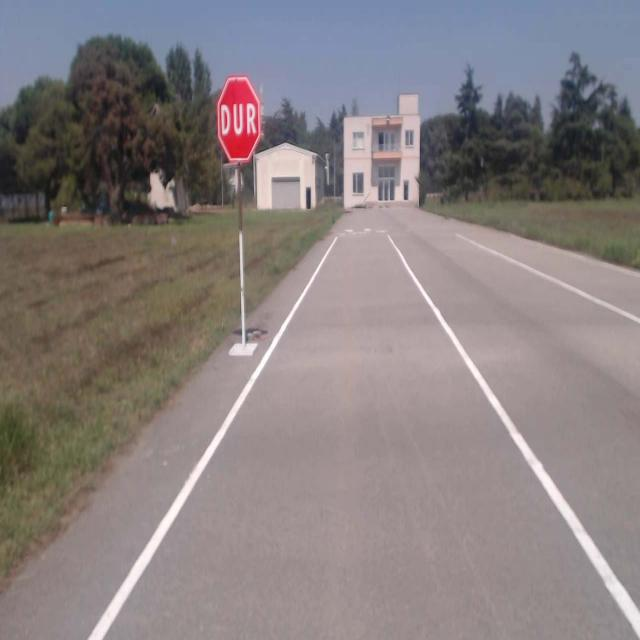dur: (216, 74, 262, 164)
